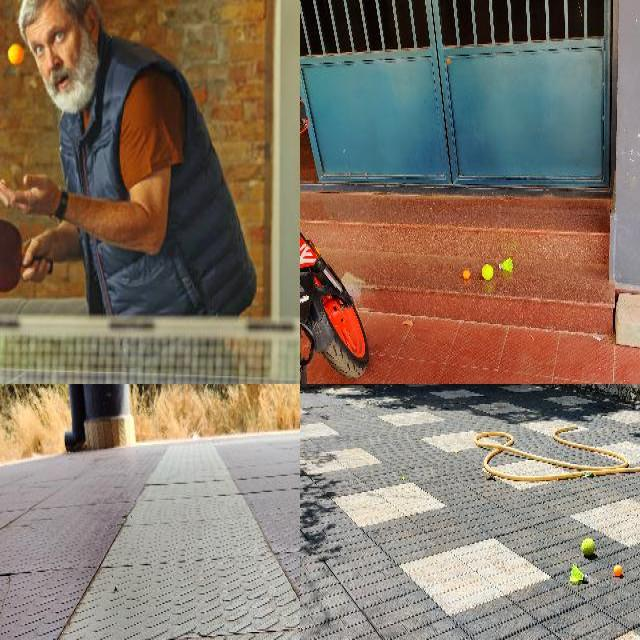ping-pong-ball: (7, 43, 23, 64), (613, 564, 621, 576), (462, 268, 470, 279)
